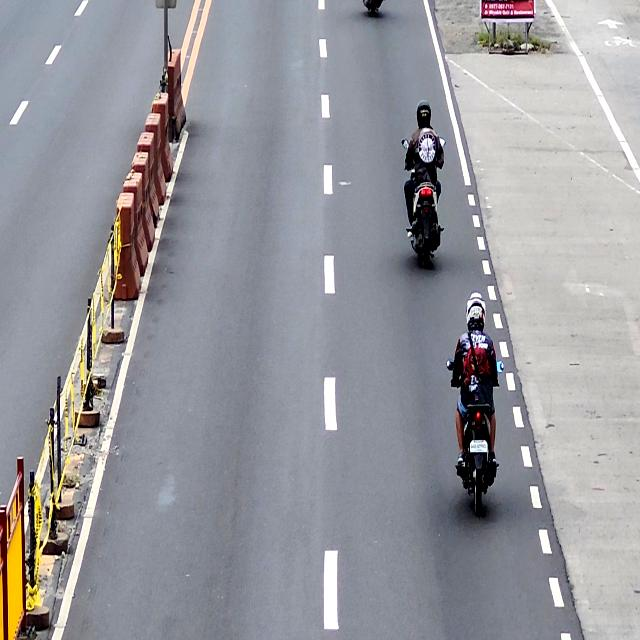License-Plate: (471, 439, 487, 454)
Motorcycle: (449, 348, 503, 516), (402, 134, 446, 273)
